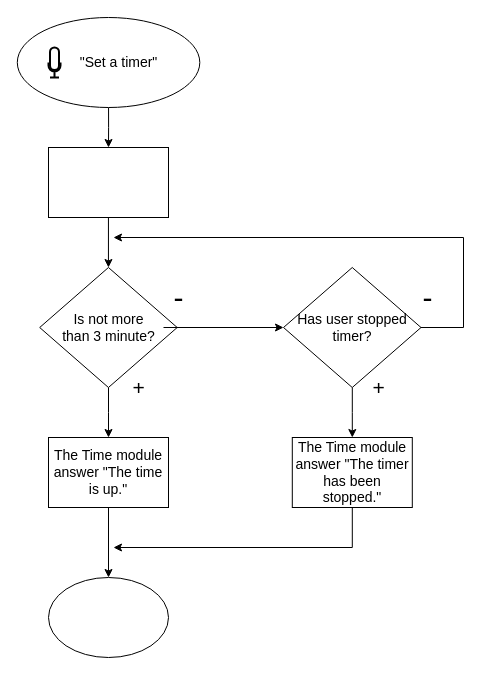
Some shapes in this 490 by 675 pixel diagram are drawn without their labels. The box of each missing label's shape, as (x1, y1, x2, y2) in pixels:
END: (48, 576, 168, 658)
The Time module set a thread for 3 minute.: (48, 146, 168, 218)
